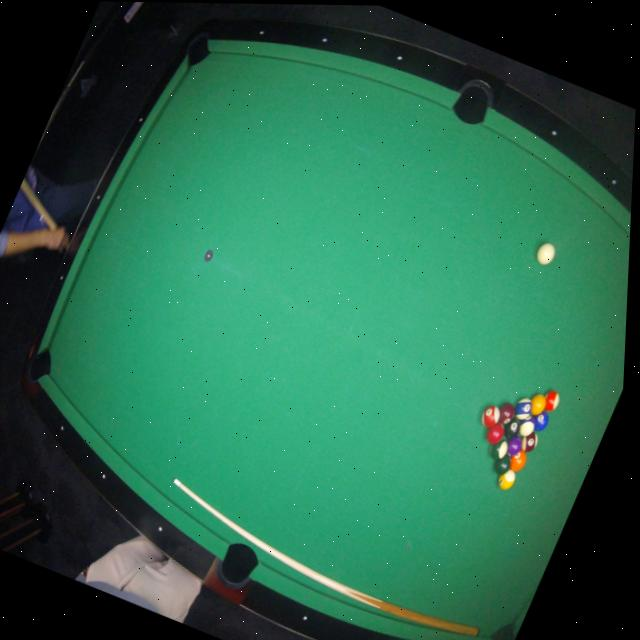cue ball: (530, 240, 560, 272)
other: (477, 402, 503, 432), (538, 387, 564, 416), (511, 395, 536, 423), (499, 415, 524, 443), (515, 412, 539, 440), (506, 447, 530, 475), (501, 434, 526, 460), (525, 392, 549, 419), (494, 401, 518, 428), (517, 429, 541, 456), (483, 420, 507, 447), (487, 436, 511, 463), (494, 466, 518, 492), (492, 452, 515, 477), (530, 409, 552, 435)
